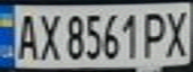1: (118, 9, 142, 60)
5: (81, 10, 106, 61)
6: (103, 10, 124, 61)
8: (63, 10, 84, 61)
A: (12, 9, 42, 61)
P: (139, 8, 169, 60)
X: (160, 7, 193, 58), (33, 9, 63, 62)
